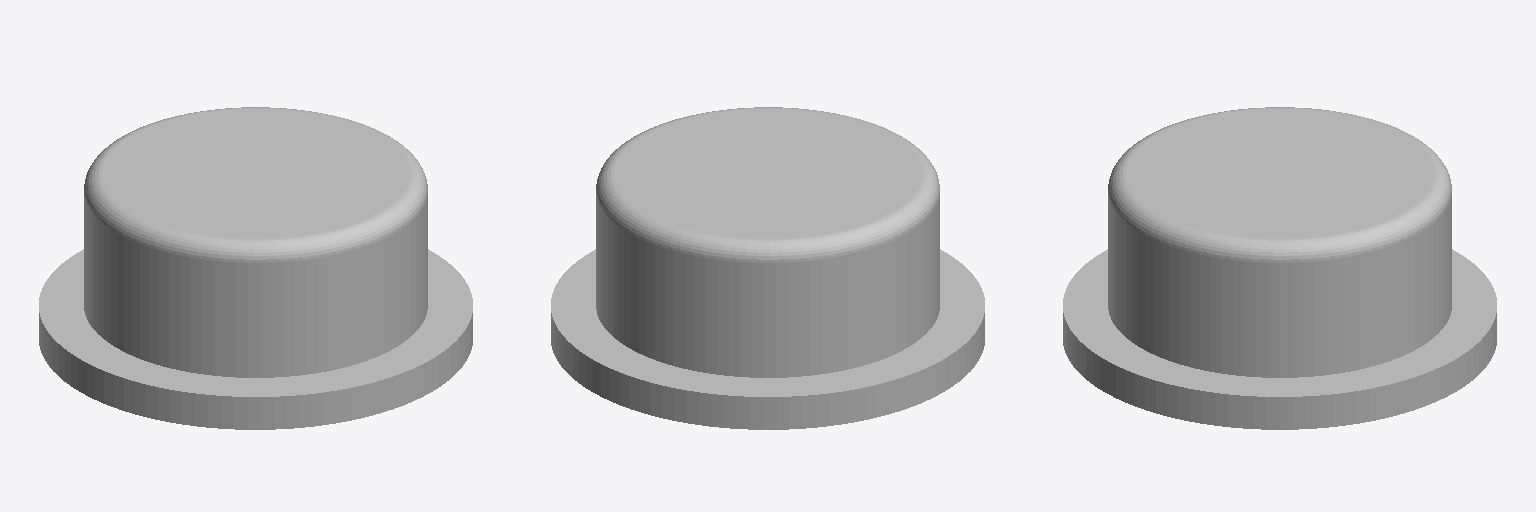
Rendered from case_Button_3.obj.
3 views of the same model, side by side, from view 1: azimuth 30°, elevation 25°; view 2: azimuth 150°, elevation 25°; view 3: azimuth 270°, elevation 25° (orthographic).
Visible parts, largest first — view 1: Solid1:10; view 2: Solid1:10; view 3: Solid1:10.
Part boxes in pixels (x1,y1,x2,y2): Solid1:10: (39, 107, 472, 429); Solid1:10: (551, 107, 984, 429); Solid1:10: (1063, 107, 1496, 429).
Size of the model in its own units: 0.012 by 0.005 by 0.012.